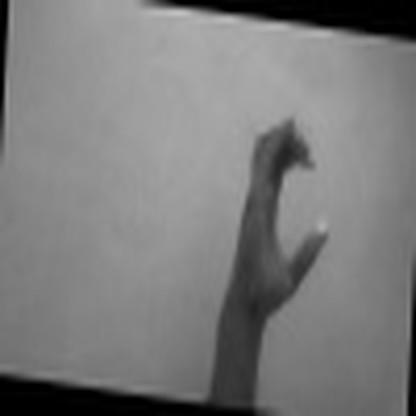c: (237, 111, 336, 311)
